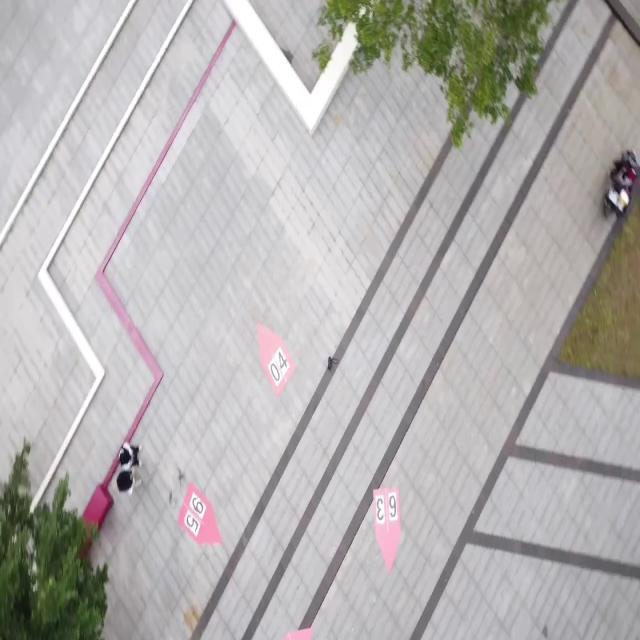-sign-: (244, 306, 304, 402), (172, 466, 228, 559), (367, 472, 413, 576)
